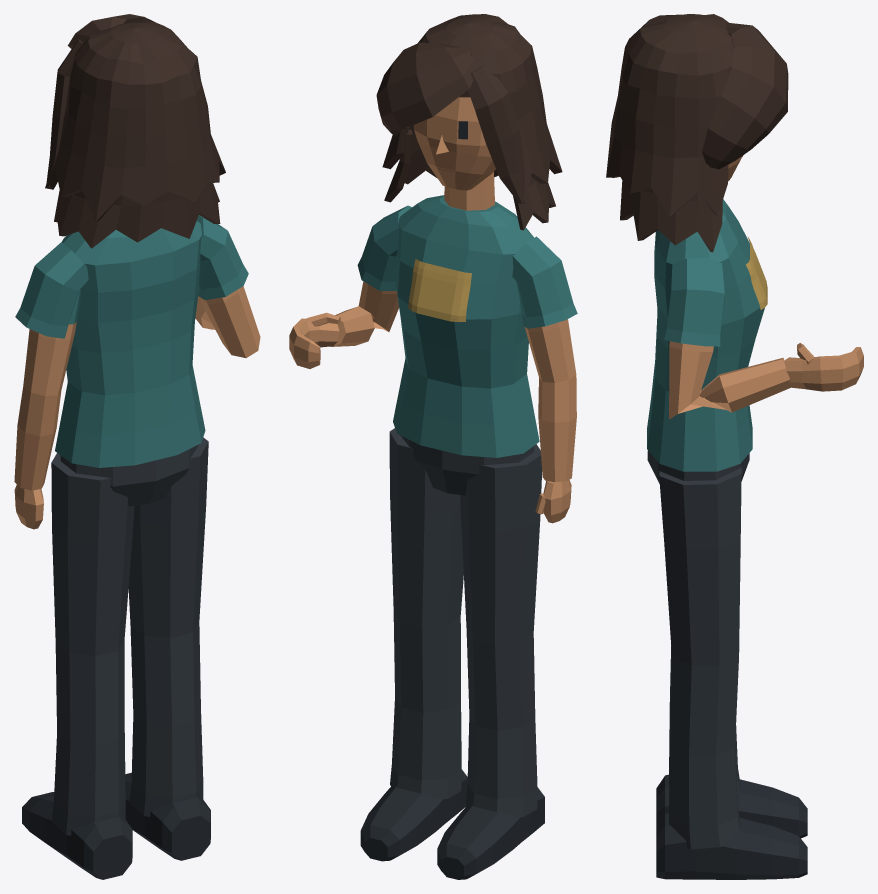
File: lwf_attendee_female_drink_hold_v2.glb
3 renders of one model, left to right at view 1: azimuth 30°, elevation 25°; view 2: azimuth 150°, elevation 25°; view 3: azimuth 270°, elevation 25°, orthographic. The views are drawn at different scales.
Parts seen in each view (by area): view 1: Attendee_female_drink_hold_v6; view 2: Attendee_female_drink_hold_v6; view 3: Attendee_female_drink_hold_v6.
Boxes of the visible parts, x1,y1,x2,y2 form: Attendee_female_drink_hold_v6: (14,14,260,879); Attendee_female_drink_hold_v6: (289,14,577,879); Attendee_female_drink_hold_v6: (606,14,863,879).
Size of the model in its own units: 0.4909 by 1.7 by 0.4758.
Materials: 1 (1 with a texture image).
